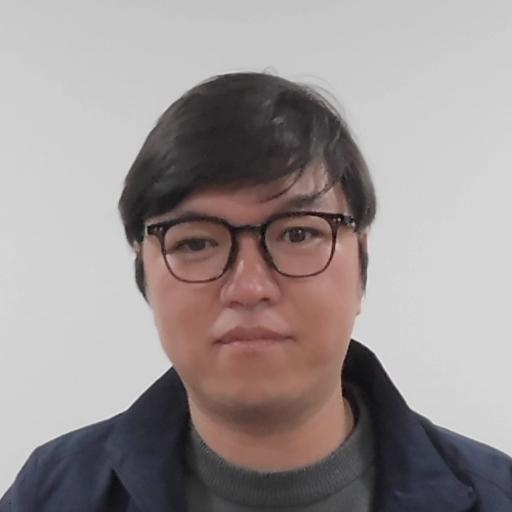no_glasses: (115, 71, 384, 416)
